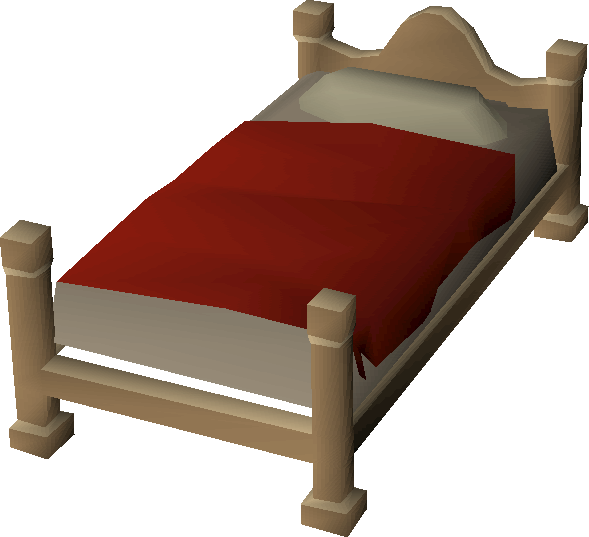bed: (5, 1, 588, 537)
